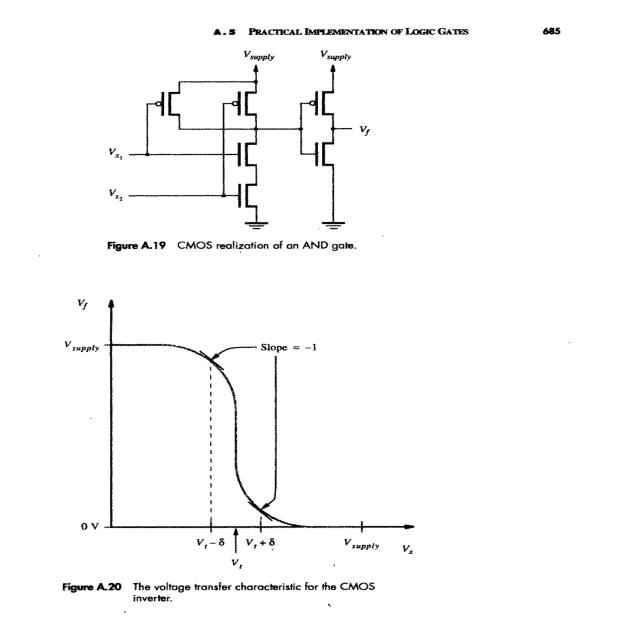diagram: (46, 43, 640, 628)
